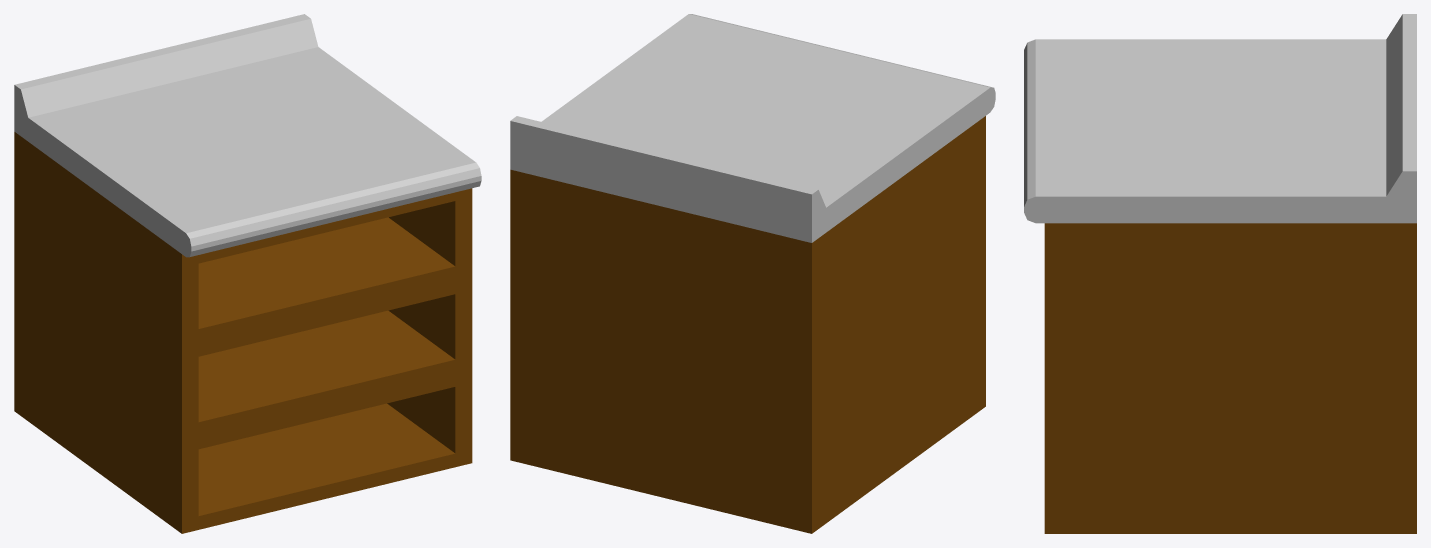
The model's file is Cupboard_1.fbx.
3 views of the same model, side by side, from view 1: azimuth 30°, elevation 25°; view 2: azimuth 150°, elevation 25°; view 3: azimuth 270°, elevation 25° (orthographic). The views are drawn at different scales.
Parts seen in each view (by area): view 1: Cube.120; view 2: Cube.120; view 3: Cube.120.
Part boxes in pixels (box(x1,y1,x2,y2)): Cube.120: box(14, 14, 481, 533); Cube.120: box(510, 14, 995, 533); Cube.120: box(1024, 14, 1416, 533).
Size of the model in its own units: 101 by 108 by 106.
